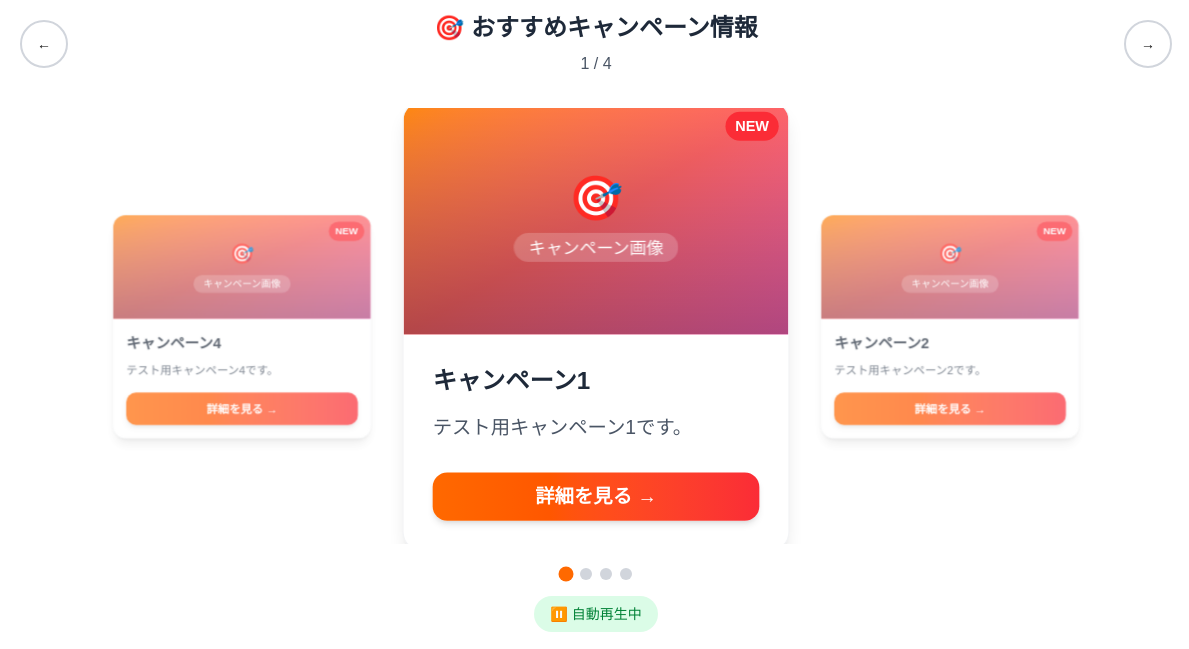
Test: CampaignCarousel コンポーネント › 前へボタンをクリックすると前のスライドに移動する
What coordinates should you click on to do the following:
click the button "←"
I would click on:
 (44, 44)
Its box is [20, 20, 68, 68].
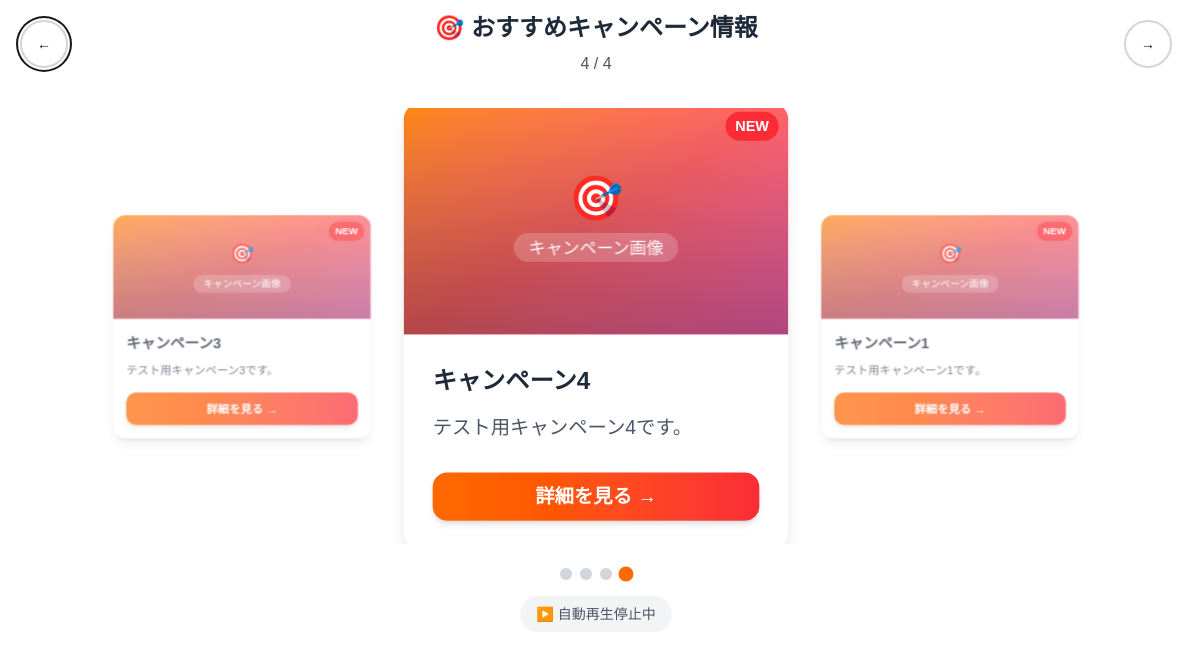
Now the text "4 / 4" is shown, box [580, 55, 612, 72]
